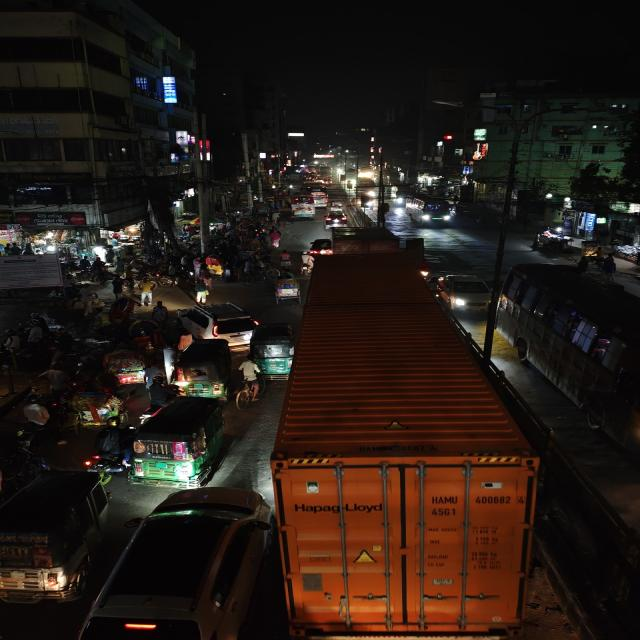bicycle: (234, 363, 264, 408)
bus: (505, 254, 640, 440), (404, 192, 454, 229), (288, 191, 318, 219)
car: (85, 484, 274, 640), (176, 304, 266, 347), (435, 271, 495, 317), (324, 210, 349, 228), (310, 237, 337, 253)
cng: (0, 467, 117, 604), (135, 390, 233, 490), (175, 340, 229, 402), (244, 322, 294, 376), (328, 198, 344, 211)
motorcycle: (87, 421, 133, 482), (151, 266, 199, 287)
pedestrian: (138, 278, 153, 308), (193, 280, 210, 305)
rickshaw: (69, 372, 137, 435), (103, 344, 151, 385), (85, 298, 136, 333), (205, 252, 239, 282), (276, 267, 302, 305)
truck: (269, 250, 538, 640)
